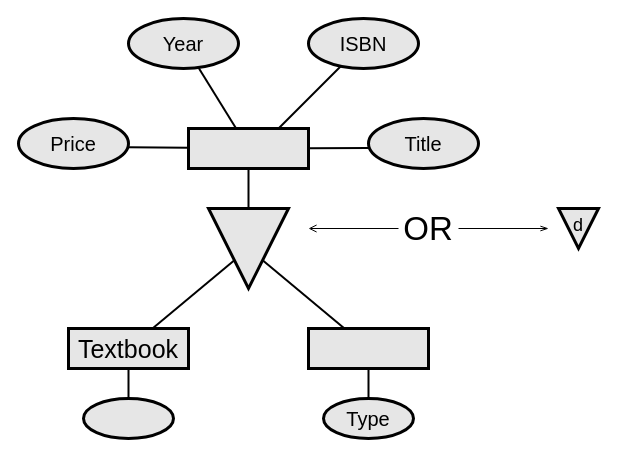
The diagram is 617 pixels wide and 457 high, and some of its shapes have lost their labels. The centre of each missing label's shape, as x and y in pixels:
"Books" goes at point 248,148.
"Comic" goes at point 368,348.
"is a" goes at point 248,248.
"Subject" goes at point 128,418.
